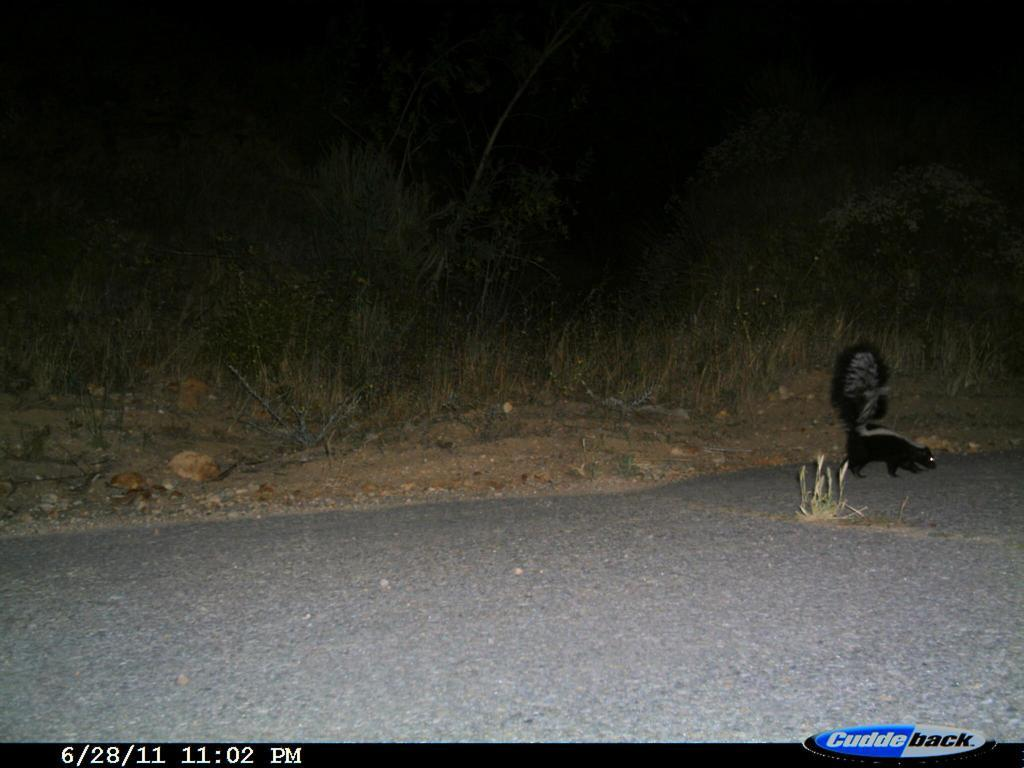skunk: (820, 324, 953, 495)
